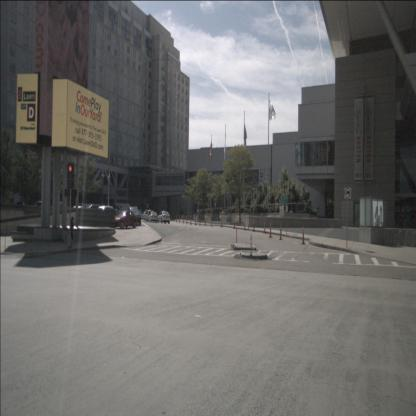cone: (301, 223, 306, 244), (279, 220, 283, 239), (235, 227, 238, 244), (269, 221, 272, 238), (250, 232, 252, 257), (263, 219, 266, 234), (220, 218, 223, 228), (253, 218, 255, 232), (233, 219, 236, 228), (204, 214, 206, 226), (211, 214, 213, 226), (244, 219, 246, 230), (199, 215, 201, 225)
